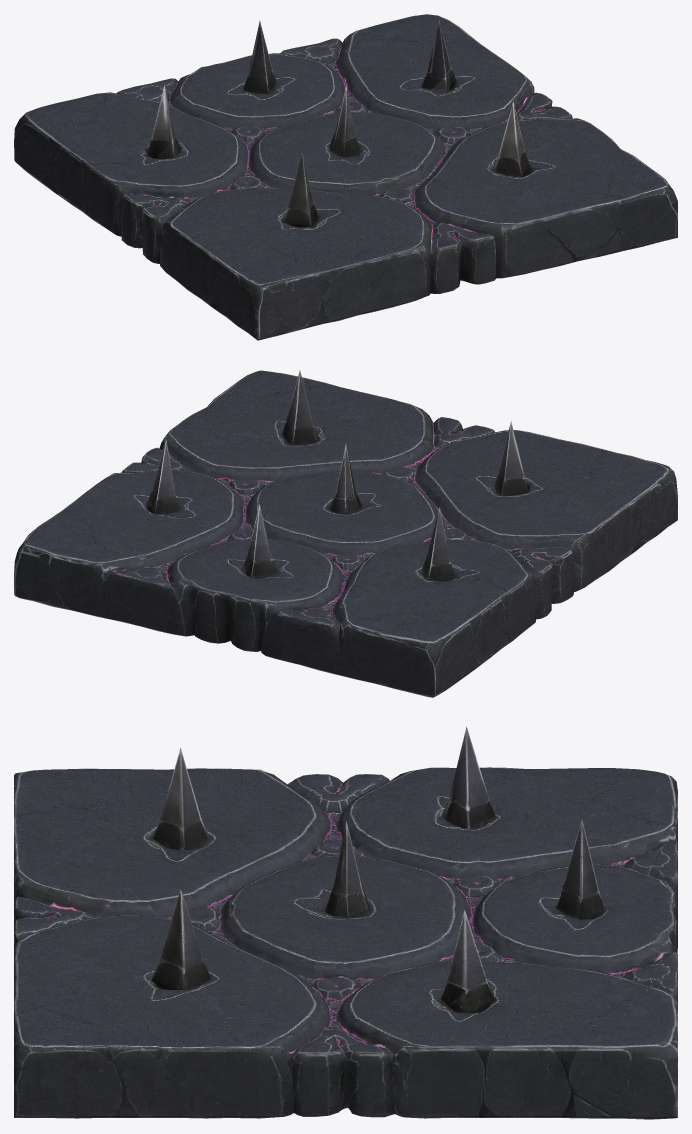
The model's file is spike_armed_clean.glb.
3 views of the same model, one above another, from view 1: azimuth 30°, elevation 25°; view 2: azimuth 150°, elevation 25°; view 3: azimuth 270°, elevation 25° (orthographic). The views are drawn at different scales.
Size of the model in its own units: 1 by 0.2725 by 1.
1 material, 1 textured.
